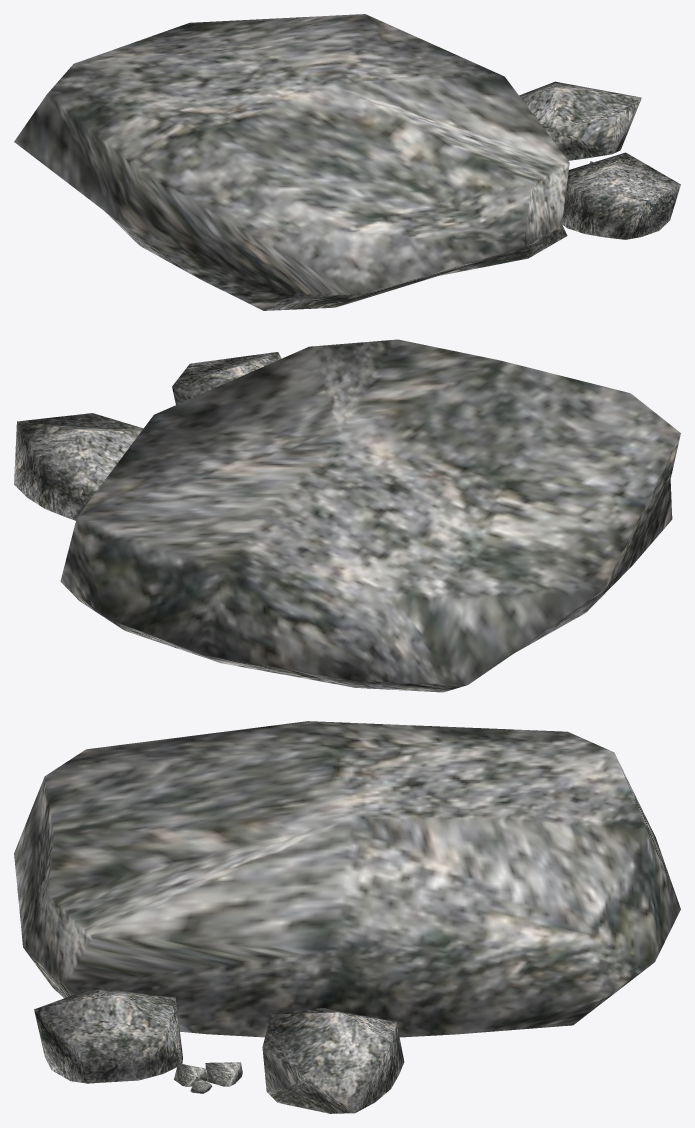
The model's file is stoneGroup2_tex2.fbx.
3 views of the same model, one above another, from view 1: azimuth 30°, elevation 25°; view 2: azimuth 150°, elevation 25°; view 3: azimuth 270°, elevation 25° (orthographic). The views are drawn at different scales.
Visible parts, largest first — view 1: stoneGroup2_tex2Object; view 2: stoneGroup2_tex2Object; view 3: stoneGroup2_tex2Object.
Boxes of the visible parts, box(x1,y1,x2,y2) form: stoneGroup2_tex2Object: box(14, 14, 680, 310); stoneGroup2_tex2Object: box(14, 339, 680, 692); stoneGroup2_tex2Object: box(14, 721, 680, 1113).
Size of the model in its own units: 1.38 by 0.2764 by 1.28.
1 material, 1 textured.
